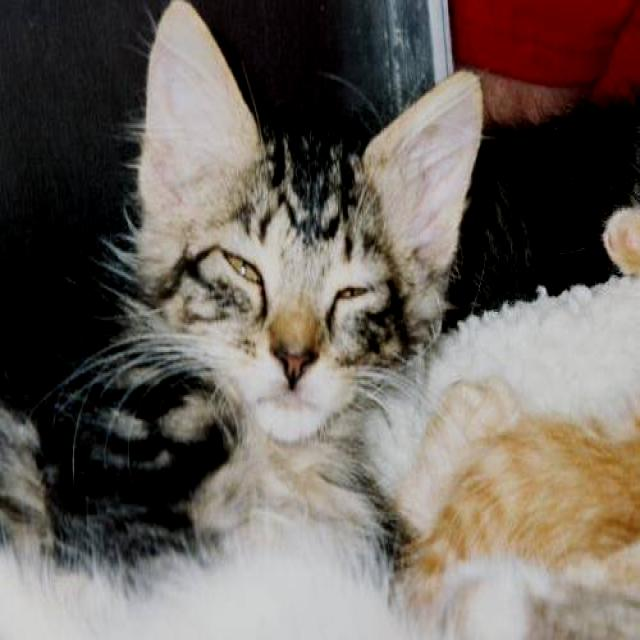Kucing: (45, 19, 482, 612)
